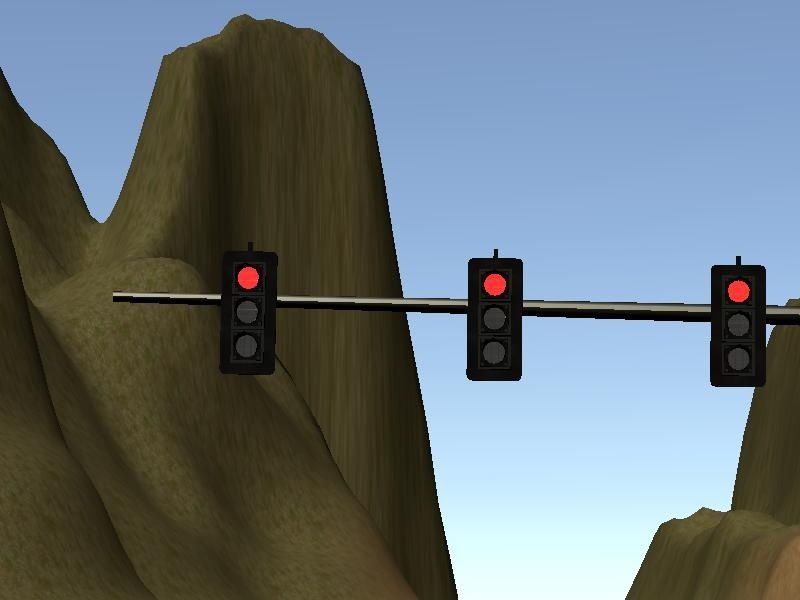red: (452, 245, 530, 392), (701, 251, 773, 392), (213, 241, 284, 383)
